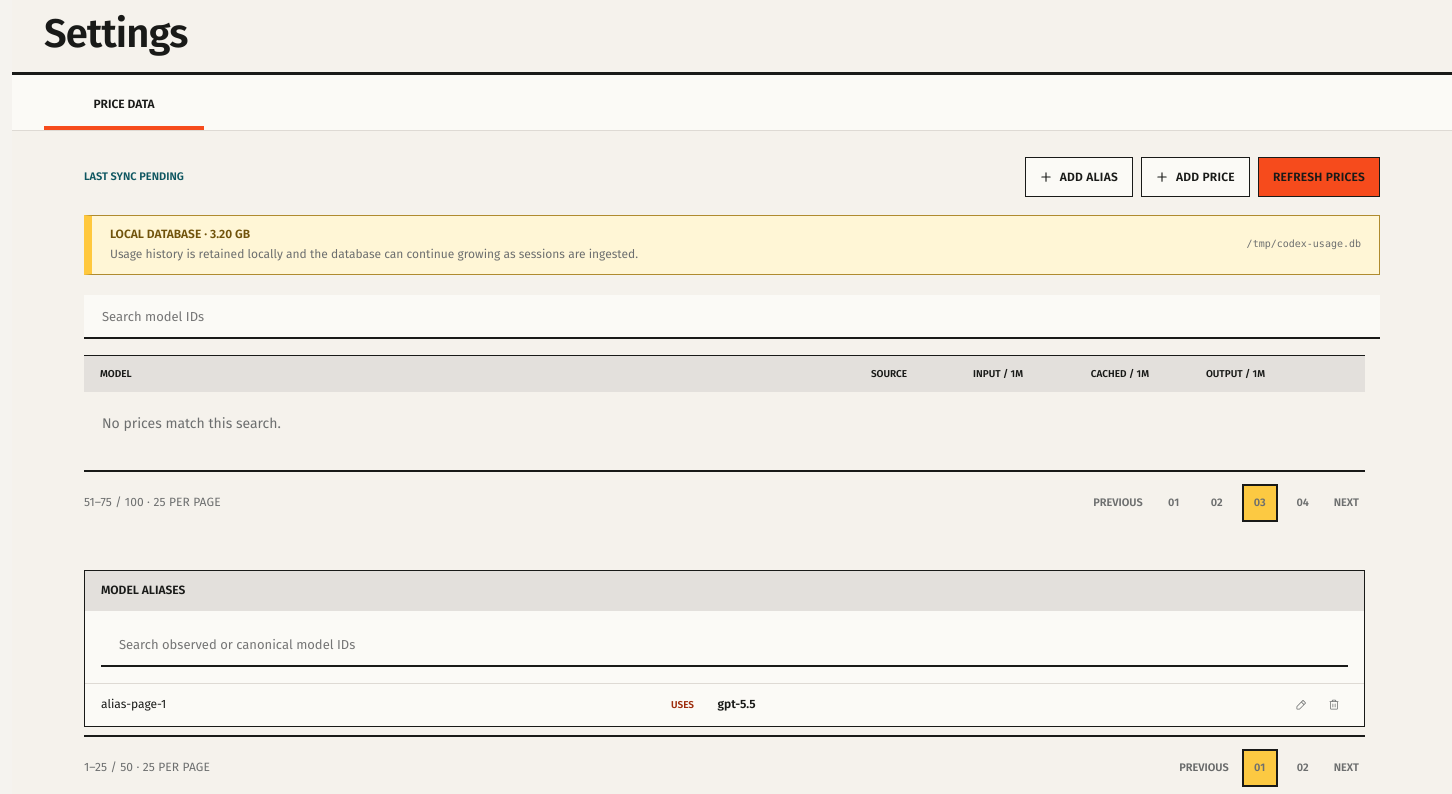
SettingsPage price editor › pages aliases through aliasPage without changing the price ledger page
What coordinates should you click on to do the following:
click the button "02" in the row of "50"
I would click on:
 (1303, 768)
Its box is [1285,749,1321,787].
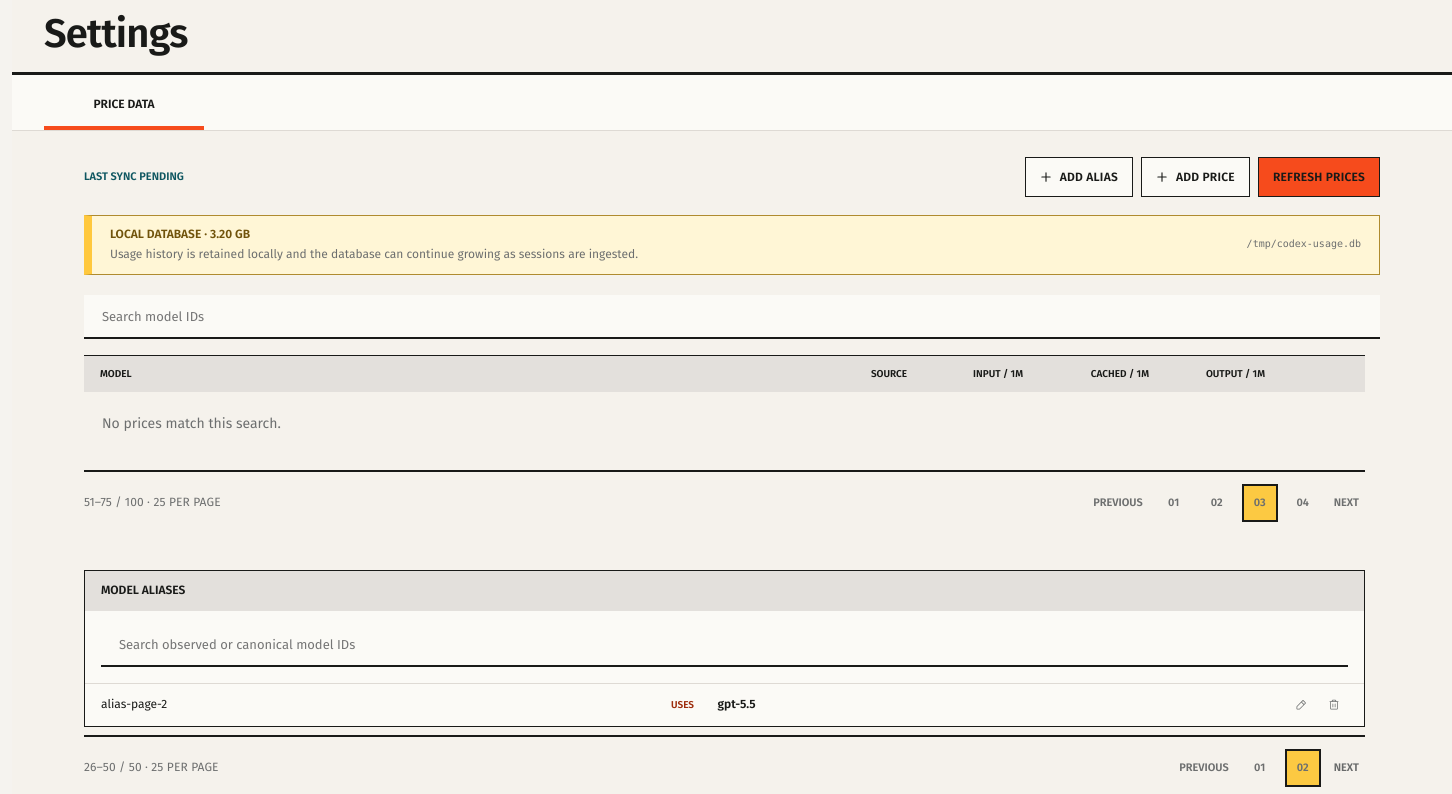
expect the text "alias-page-2" is shown: met, box [101,698,167,712]
What coordinates should you click on to do the following:
click the button "01" in the row of "26"
I would click on:
 (1260, 768)
Its box is [1242,749,1278,787].
(page scrolled)
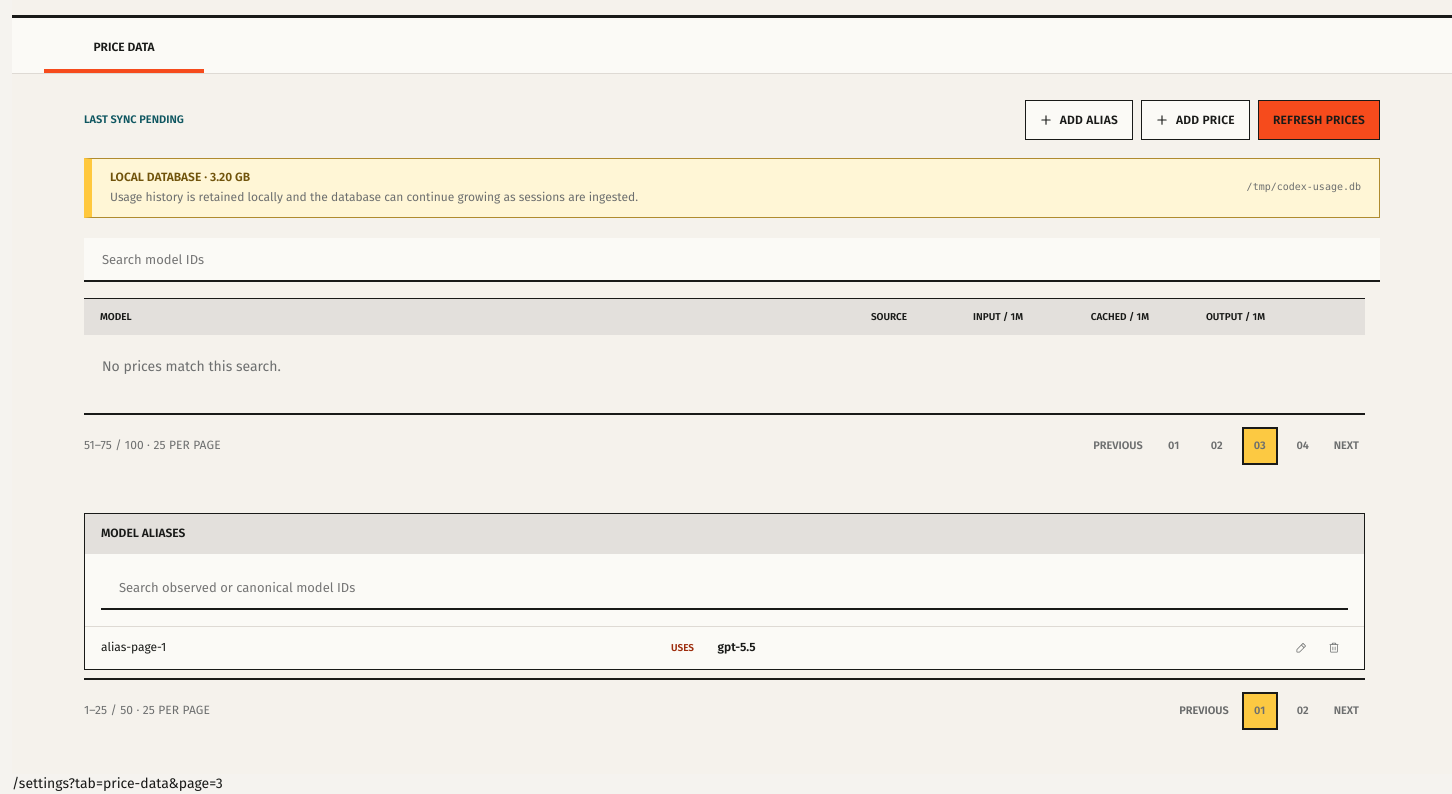
expect the text named "Current location" shows "page=3": met, box [69,775,223,792]
expect the text named "Current location" no longer shows "aliasPage=": met, box [12,775,223,792]
